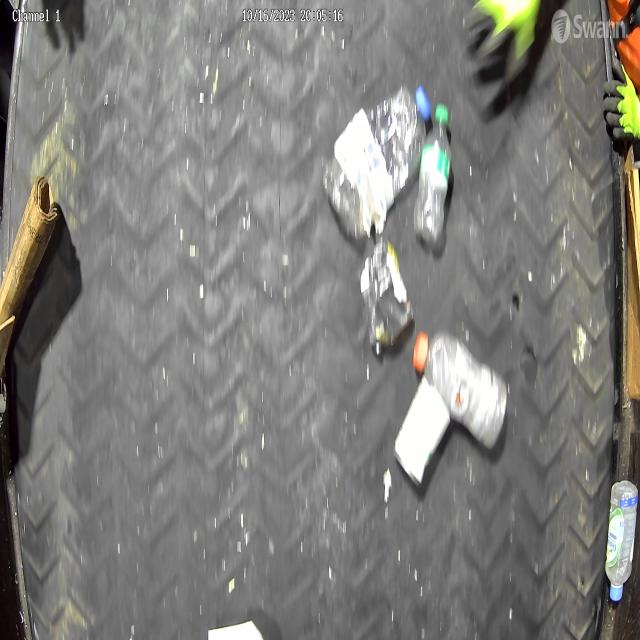can: (393, 375, 450, 489)
plastic_bottle: (322, 80, 432, 242), (413, 328, 509, 449), (413, 101, 452, 246), (604, 480, 638, 602)
